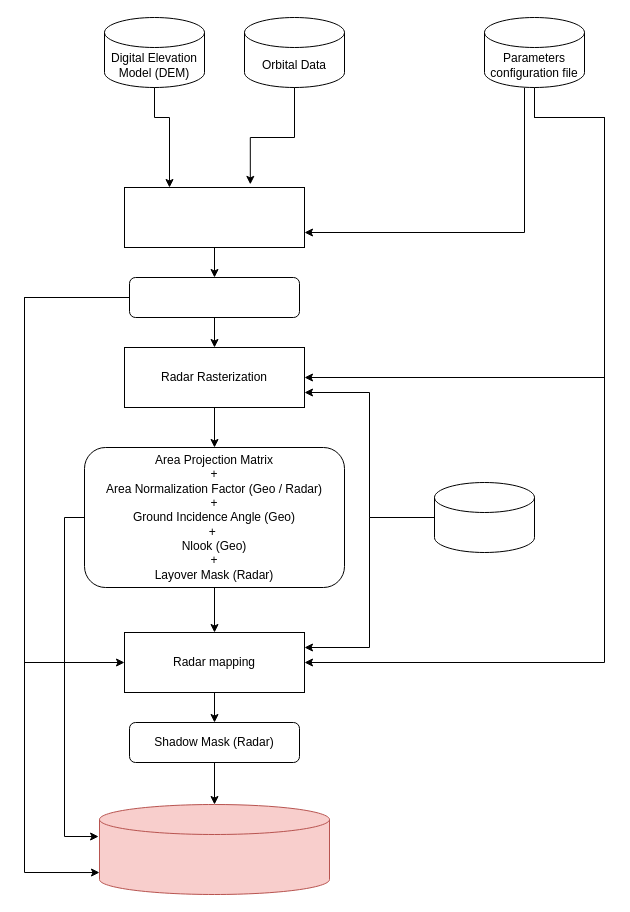
The diagram is 630 pixels wide and 912 high, and some of its shapes have lost their labels. Here are the shapes that lost their labels. From the top down, the box of each, then its label:
(124, 186, 304, 248): Coordinates Conversion
(128, 276, 300, 318): Geo2Radar Association Matrix
(434, 482, 534, 552): L1 annotations
(98, 804, 330, 894): Store - Geometry and Projection info (Static Archive)
